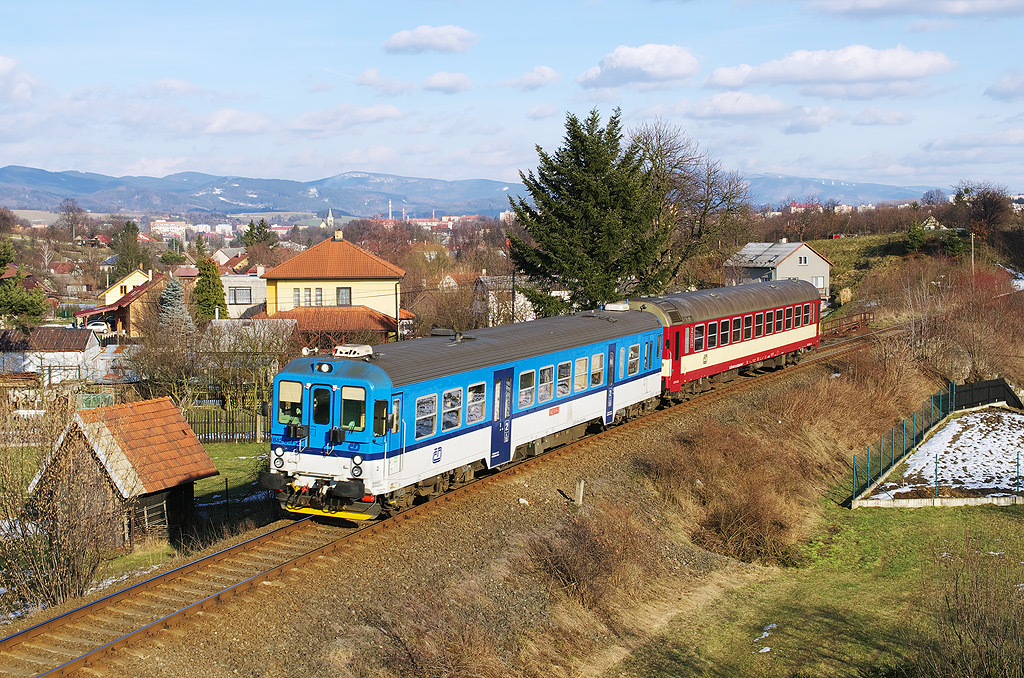train: (250, 275, 828, 516)
